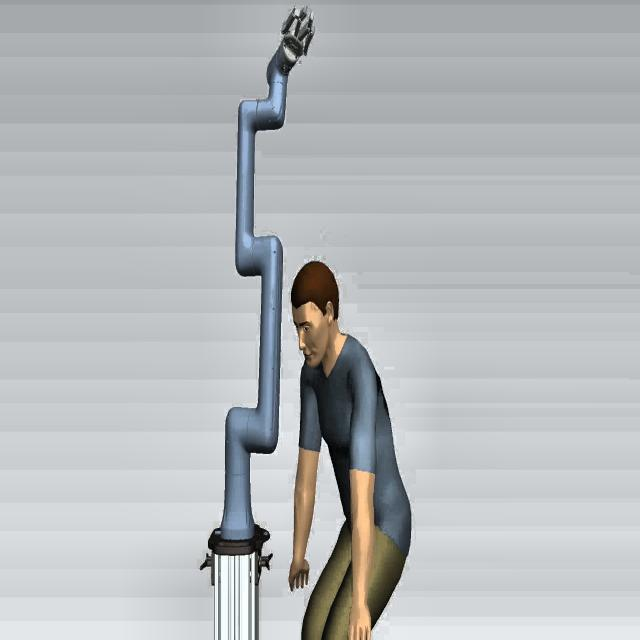robot: (210, 0, 322, 559)
